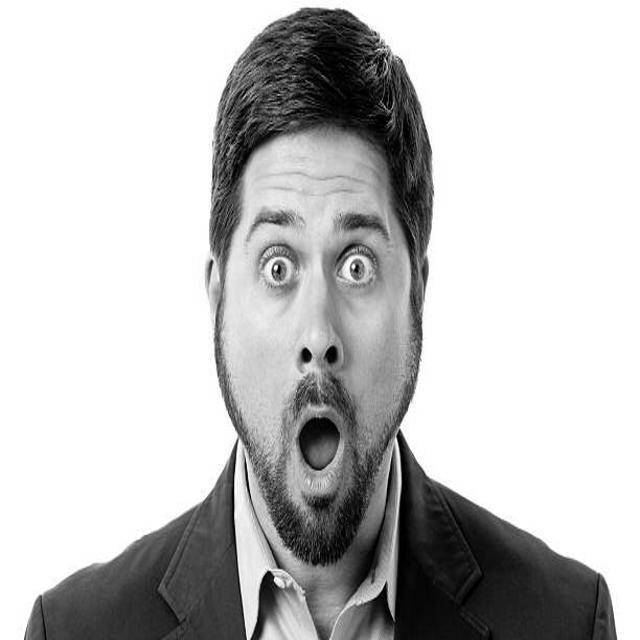Surprised: (225, 128, 420, 560)
